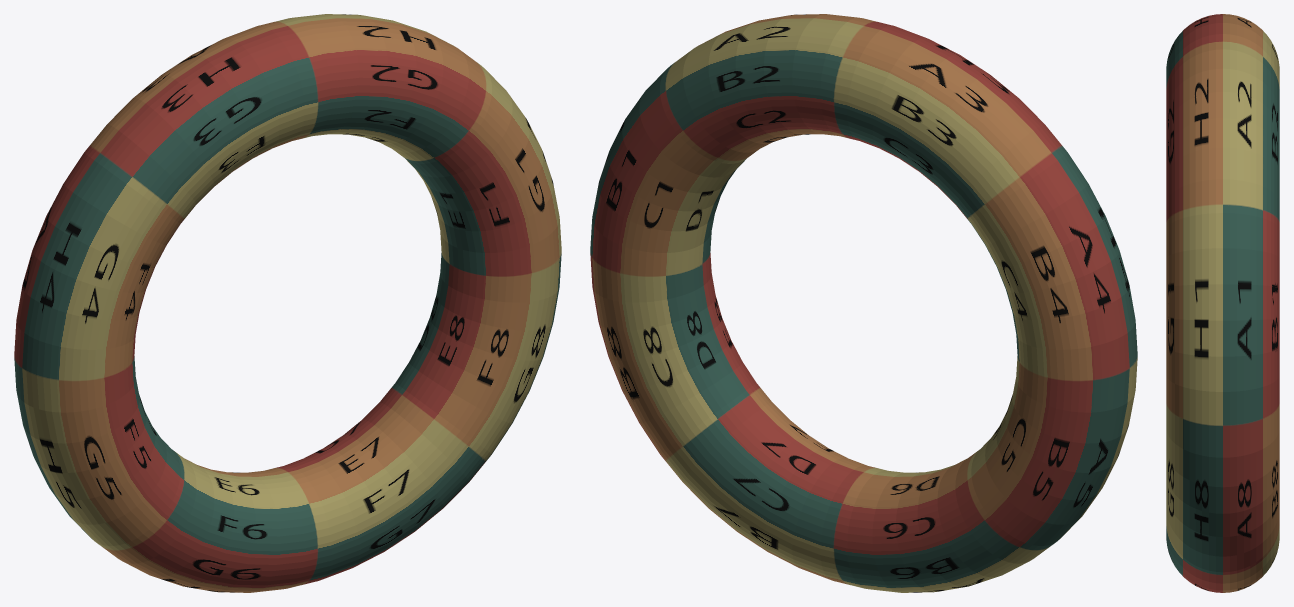
File: texture_torus_R17_r12.glb
3 renders of one model, left to right at view 1: azimuth 30°, elevation 25°; view 2: azimuth 150°, elevation 25°; view 3: azimuth 270°, elevation 25°, orthographic. The views are drawn at different scales.
Parts seen in each view (by area): view 1: world; view 2: world; view 3: world.
Boxes of the visible parts, x1,y1,x2,y2 form: world: [14, 14, 561, 592]; world: [590, 14, 1137, 592]; world: [1166, 14, 1279, 592].
Bounding box in the file's own units: 26.53 × 26.48 × 5.19.
1 material, 1 textured.
